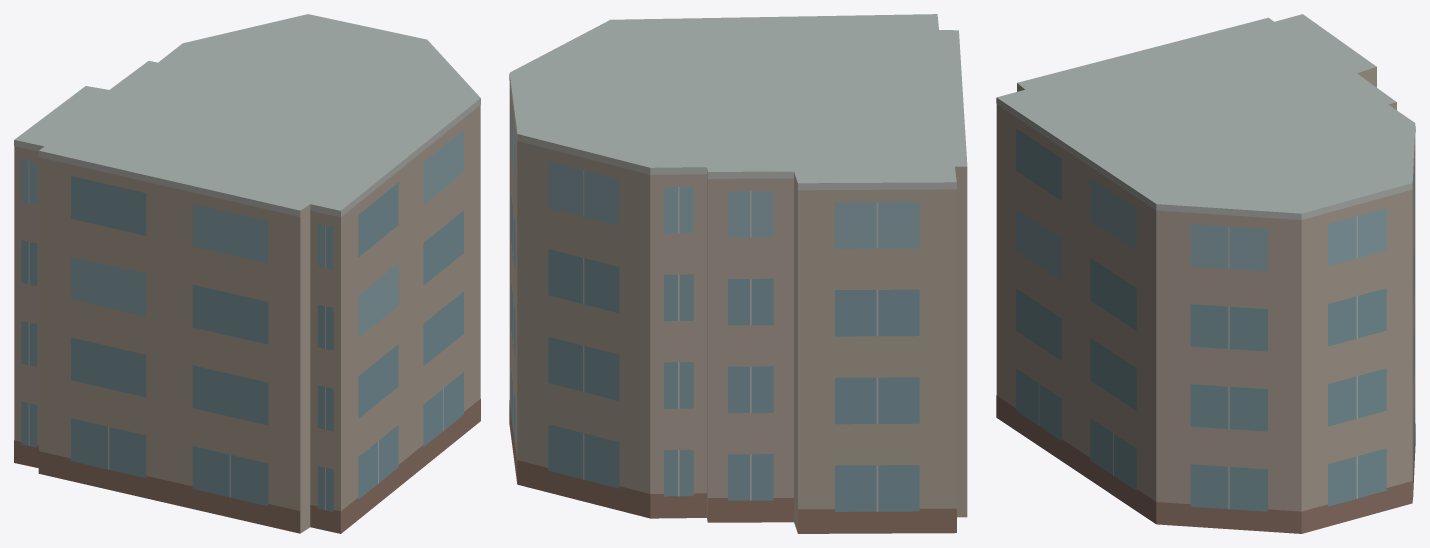
The model's file is survey-upis-32988554.glb.
The picture shows the model from 3 angles, left to right: view 1: azimuth 30°, elevation 25°; view 2: azimuth 150°, elevation 25°; view 3: azimuth 270°, elevation 25°; orthographic projection. The views are drawn at different scales.
Visible parts, largest first — view 1: survey-upis-32988554.tmp; view 2: survey-upis-32988554.tmp; view 3: survey-upis-32988554.tmp.
Boxes of the visible parts, box(x1,y1,x2,y2) form: survey-upis-32988554.tmp: box(14, 14, 480, 533); survey-upis-32988554.tmp: box(509, 14, 967, 533); survey-upis-32988554.tmp: box(996, 14, 1415, 533).
Size of the model in its own units: 16.32 by 12.2 by 14.48.
